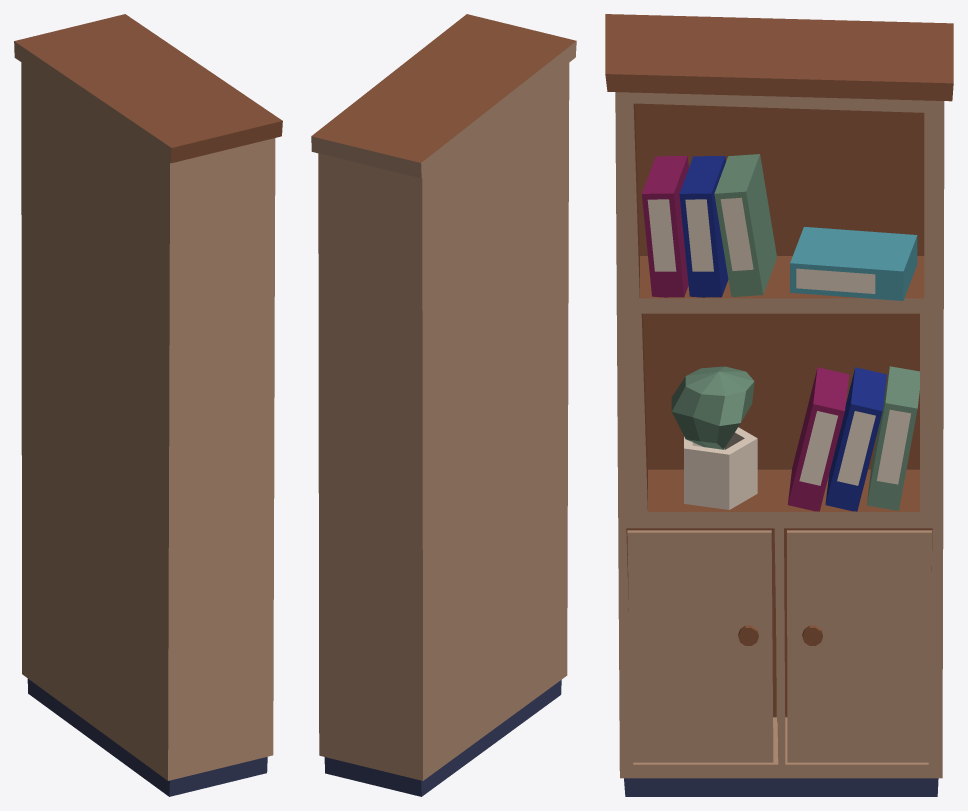
Rendered from storage_v01.fbx.
The picture shows the model from 3 angles, left to right: view 1: azimuth 30°, elevation 25°; view 2: azimuth 150°, elevation 25°; view 3: azimuth 270°, elevation 25°; orthographic projection. The views are drawn at different scales.
Visible parts, largest first — view 1: pasted__pCube21; view 2: pasted__pCube21; view 3: pasted__pCube21, pasted__pCube13, pasted__pCube15, pasted__pCube25, pasted__pCube24, pasted__pCube22, pasted__pCube23, pasted__pCube28, pasted__pSphere1, pasted__pCube27, pasted__pCube26, pasted__pCylinder9.
Boxes of the visible parts, x1,y1,x2,y2 form: pasted__pCube21: (14,14,282,796); pasted__pCube21: (311,14,576,796); pasted__pCube21: (605,14,953,796); pasted__pCube13: (787,530,931,762); pasted__pCube15: (627,530,773,762); pasted__pCube25: (790,227,917,300); pasted__pCube24: (714,154,776,296); pasted__pCube22: (641,156,688,297); pasted__pCube23: (679,156,728,297); pasted__pCube28: (788,367,849,511); pasted__pSphere1: (671,366,754,449); pasted__pCube27: (825,367,886,511); pasted__pCube26: (866,366,919,510); pasted__pCylinder9: (684,427,757,509).
Size of the model in its own units: 68.93 by 370 by 161.
